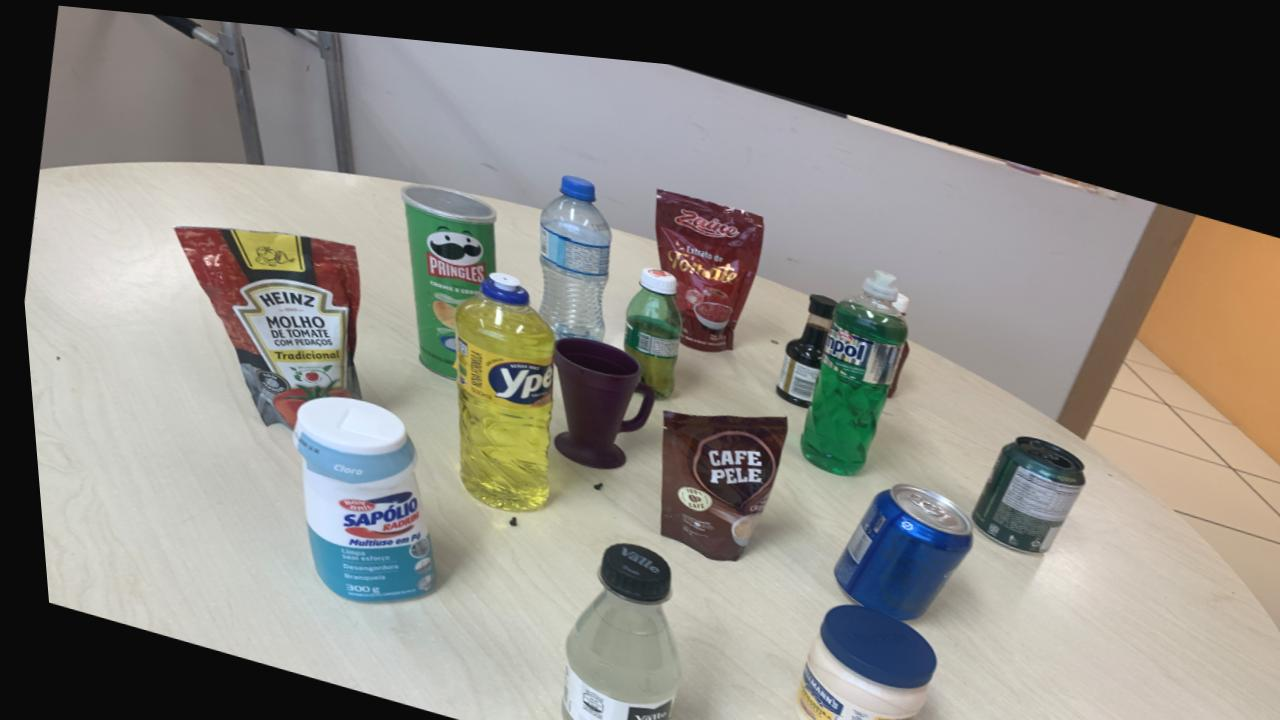Cleaner-Cleanup_Items: (284, 390, 426, 595)
Coffee-Pantry_Items: (651, 397, 782, 547)
Detergent-Cleanup_Items: (449, 262, 550, 502), (794, 252, 903, 459)
English_Sauce-Pantry_Items: (770, 277, 831, 392)
Guarana-Drinks: (618, 255, 678, 385)
Guarana_Can-Drinks: (965, 415, 1079, 533)
Ketchup-Pantry_Items: (881, 324, 905, 379), (888, 275, 906, 301)
Mayonnaise-Pantry_Items: (785, 587, 926, 720)
Pringles-Snacks: (397, 175, 492, 369)
Soda-Drinks: (550, 531, 670, 720)
Tomato_Sauce-Pantry_Items: (170, 222, 356, 422), (652, 176, 762, 338)
Tonic-Drinks: (826, 465, 966, 603)
Water_Bottle-Drinks: (533, 164, 608, 329)
